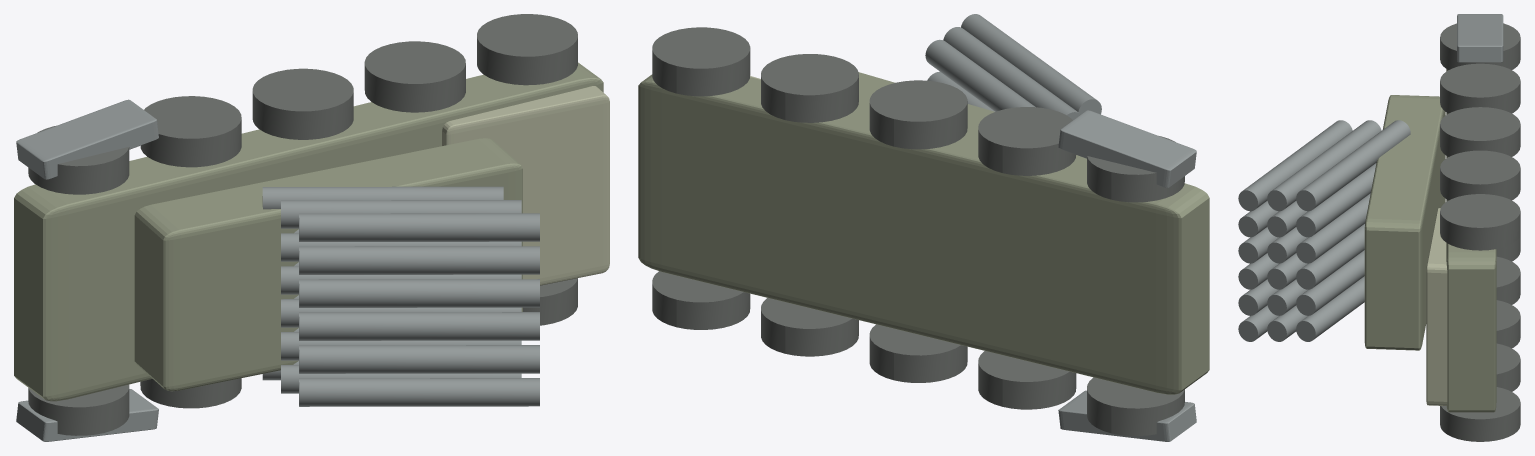
Rendered from v-u17-vanguard-rocket-artillery-lod1.glb.
3 renders of one model, left to right at view 1: azimuth 30°, elevation 25°; view 2: azimuth 150°, elevation 25°; view 3: azimuth 270°, elevation 25°, orthographic. The views are drawn at different scales.
Parts seen in each view (by area): view 1: chassis_lower, upper_hull, chassis_nose, rocket_tube_13, rocket_tube_14, rocket_tube_15, rocket_tube_16, rocket_tube_17, rocket_tube_18, chassis_wheel_1_3, chassis_wheel_1_2, chassis_wheel_1_4 (+14 smaller); view 2: chassis_lower, chassis_wheel_1_4, chassis_wheel_1_2, chassis_wheel_1_3, chassis_wheel_1_1, rocket_jack_1, chassis_wheel_-1_2, chassis_wheel_-1_1, chassis_wheel_-1_4, chassis_wheel_-1_3, chassis_wheel_-1_0, rocket_tube_18 (+5 smaller); view 3: upper_hull, chassis_lower, chassis_wheel_1_4, chassis_nose, chassis_wheel_1_3, chassis_wheel_1_1, chassis_wheel_1_2, rocket_tube_6, chassis_wheel_-1_4, rocket_tube_12, rocket_tube_18, rocket_jack_1 (+20 smaller).
Part boxes in pixels (x1,y1,x2,y2): chassis_lower: (14,62,603,401); upper_hull: (134,138,522,391); chassis_nose: (442,86,609,285); rocket_tube_13: (299,378,539,406); rocket_tube_14: (299,345,539,373); rocket_tube_15: (299,312,539,340); rocket_tube_16: (299,279,539,307); rocket_tube_17: (299,246,539,274); rocket_tube_18: (299,213,539,241); chassis_wheel_1_3: (364,41,465,112); chassis_wheel_1_2: (252,68,353,139); chassis_wheel_1_4: (477,14,577,85); chassis_lower: (638,74,1209,394); chassis_wheel_1_4: (652,27,750,96); chassis_wheel_1_2: (869,80,967,149); chassis_wheel_1_3: (761,54,858,122); chassis_wheel_1_1: (978,107,1075,175); rocket_jack_1: (1058,110,1196,187); chassis_wheel_-1_2: (869,324,967,382); chassis_wheel_-1_1: (978,351,1076,409); chassis_wheel_-1_4: (652,271,750,329); chassis_wheel_-1_3: (761,298,858,356); chassis_wheel_-1_0: (1087,377,1184,435); rocket_tube_18: (961,14,1101,114); upper_hull: (1364,95,1445,350); chassis_lower: (1446,69,1496,412); chassis_wheel_1_4: (1440,194,1520,250); chassis_nose: (1426,208,1447,405); chassis_wheel_1_3: (1440,150,1520,200); chassis_wheel_1_1: (1440,63,1520,113); chassis_wheel_1_2: (1440,107,1520,156); rocket_tube_6: (1296,120,1410,211); chassis_wheel_-1_4: (1440,387,1520,441); rocket_tube_12: (1267,120,1381,211); rocket_tube_18: (1238,120,1352,211); rocket_jack_1: (1457,14,1503,62).
Size of what is drawn, in the model's own units: 8.11 by 4.27 by 4.45.
